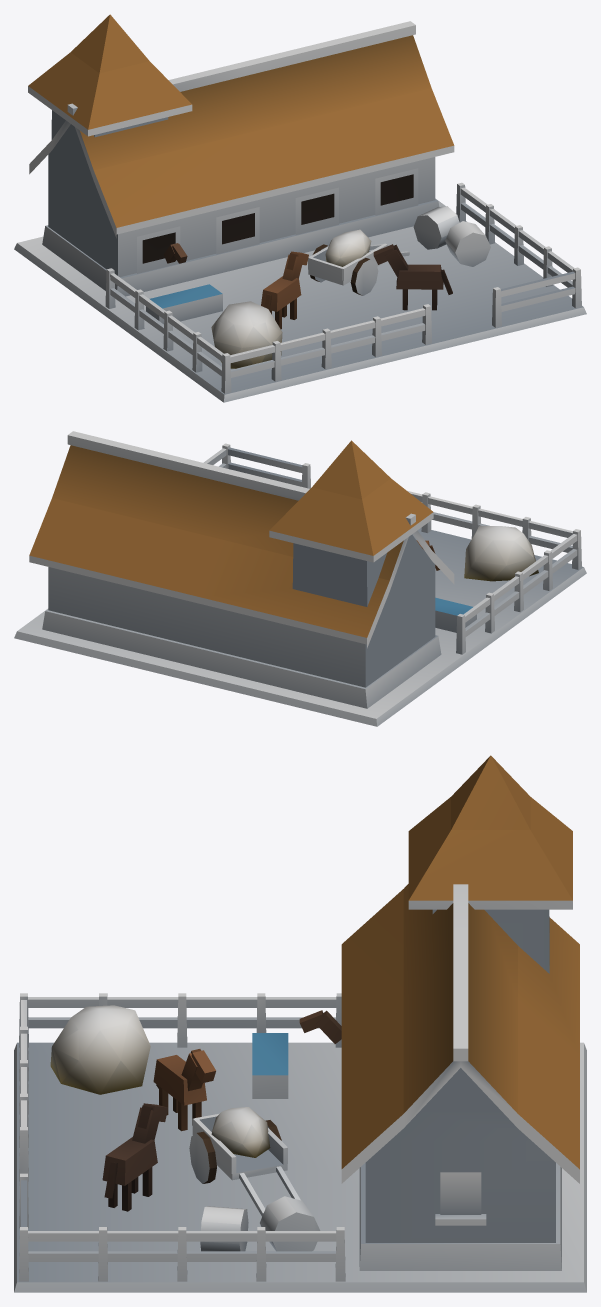
The model's file is stable_t3.glb.
3 views of the same model, one above another, from view 1: azimuth 30°, elevation 25°; view 2: azimuth 150°, elevation 25°; view 3: azimuth 270°, elevation 25° (orthographic). The views are drawn at different scales.
Visible parts, largest first — view 1: stable_t3; view 2: stable_t3; view 3: stable_t3.
Boxes of the visible parts, x1,y1,x2,y2 form: stable_t3: [14, 14, 586, 402]; stable_t3: [14, 431, 586, 726]; stable_t3: [14, 755, 586, 1292].
Size of the model in its own units: 2.86 by 1.85 by 2.86.
